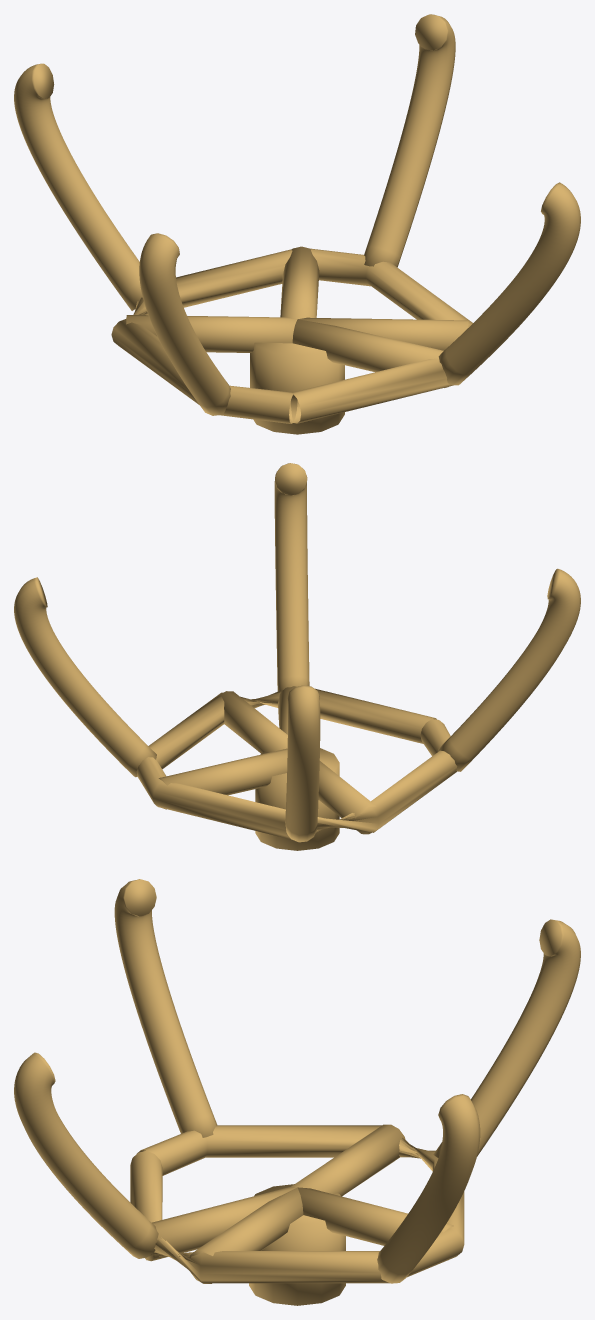
File: stuller-lg-500104790-4-prong.glb
The picture shows the model from 3 angles, top to bottom: view 1: azimuth 30°, elevation 25°; view 2: azimuth 150°, elevation 25°; view 3: azimuth 270°, elevation 25°; orthographic projection. The views are drawn at different scales.
Visible parts, largest first — view 1: Metal.274, Metal.279, Metal.280, Metal.282, Metal.281, Metal.273, Metal.278, Metal.277, Metal.275, Metal.276; view 2: Metal.274, Metal.282, Metal.281, Metal.279, Metal.280, Metal.276, Metal.273, Metal.275, Metal.277; view 3: Metal.274, Metal.281, Metal.282, Metal.280, Metal.279, Metal.273, Metal.277, Metal.276, Metal.278, Metal.275.
Part boxes in pixels (x1=…): Metal.274: x1=111, y1=248, x2=472, y2=423; Metal.279: x1=364, y1=14, x2=455, y2=267; Metal.280: x1=14, y1=63, x2=142, y2=310; Metal.282: x1=438, y1=182, x2=580, y2=385; Metal.281: x1=139, y1=233, x2=230, y2=415; Metal.273: x1=250, y1=342, x2=344, y2=434; Metal.278: x1=292, y1=319, x2=448, y2=387; Metal.277: x1=126, y1=315, x2=297, y2=352; Metal.275: x1=298, y1=317, x2=468, y2=350; Metal.276: x1=280, y1=246, x2=319, y2=319; Metal.274: x1=136, y1=688, x2=457, y2=839; Metal.282: x1=274, y1=463, x2=309, y2=691; Metal.281: x1=438, y1=568, x2=580, y2=771; Metal.279: x1=14, y1=577, x2=156, y2=777; Metal.280: x1=285, y1=685, x2=320, y2=842; Metal.276: x1=158, y1=748, x2=287, y2=809; Metal.273: x1=255, y1=748, x2=339, y2=850; Metal.275: x1=218, y1=691, x2=287, y2=753; Metal.277: x1=318, y1=761, x2=376, y2=834; Metal.274: x1=130, y1=1125, x2=464, y2=1283; Metal.281: x1=114, y1=879, x2=217, y2=1137; Metal.282: x1=14, y1=1052, x2=158, y2=1258; Metal.280: x1=433, y1=919, x2=580, y2=1157; Metal.279: x1=377, y1=1094, x2=480, y2=1283; Metal.273: x1=249, y1=1184, x2=345, y2=1305; Metal.277: x1=291, y1=1124, x2=405, y2=1196; Metal.276: x1=297, y1=1187, x2=453, y2=1245; Metal.278: x1=145, y1=1187, x2=296, y2=1261; Metal.275: x1=189, y1=1187, x2=303, y2=1283.
Bounding box in the file's own units: 6.89 × 4.06 × 6.99.
